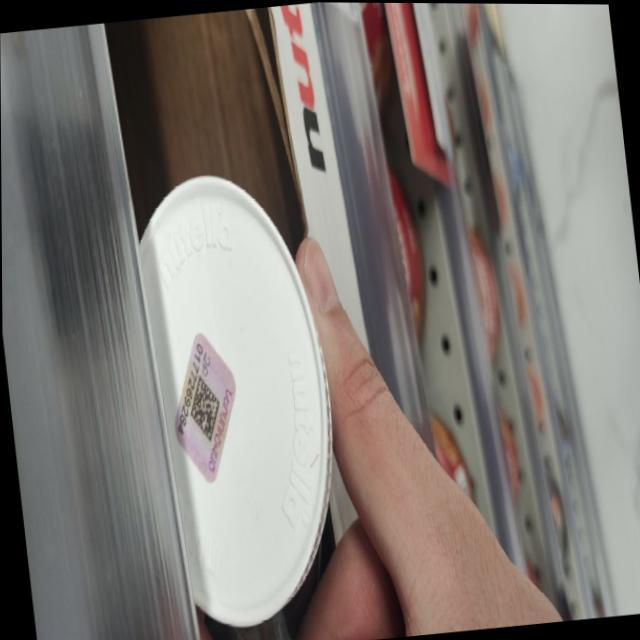datamatrix: (185, 372, 225, 445)
